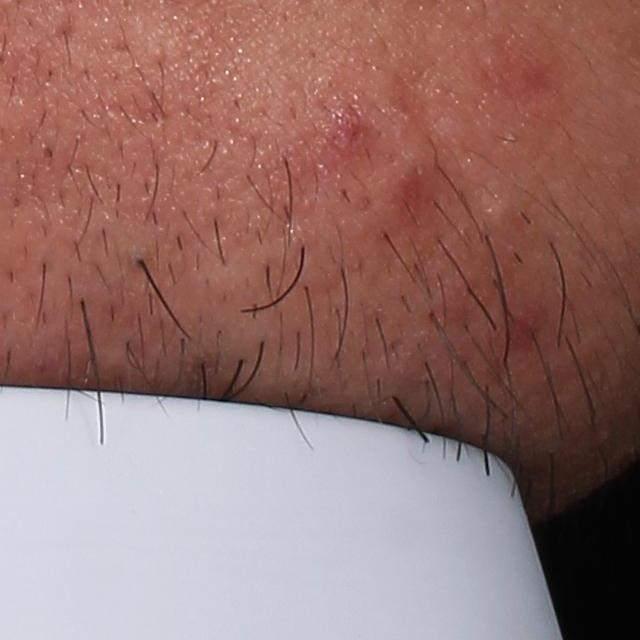atrophic_scar: (55, 16, 78, 49)
hypertrophic_scar: (472, 186, 524, 231)
papule: (314, 102, 373, 167)
